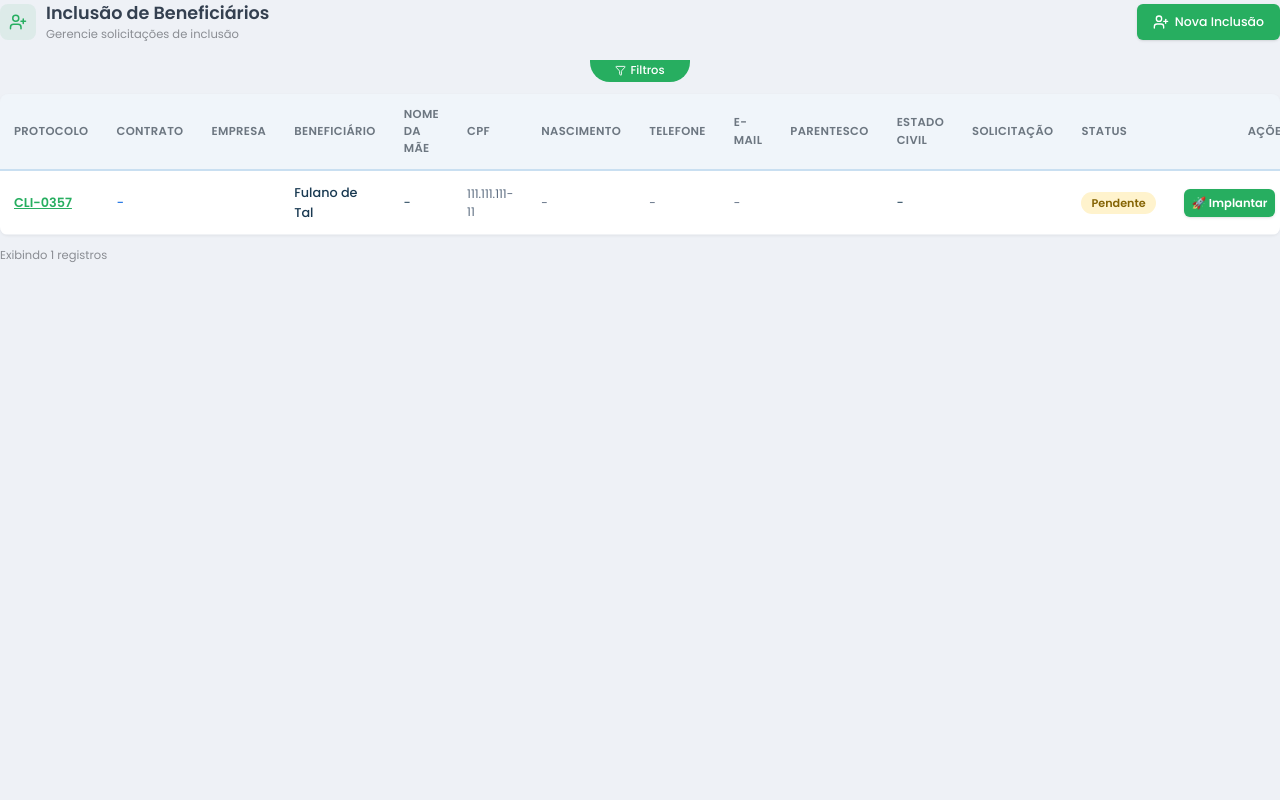
it: TDD: Decouple Movement Notifications from Chat & Render in Bell Icon › RED/GREEN: Inclusao page details modal should render attachments for the protocol
Click the button "CLI-0357".
click(43, 203)  # box [14,193,72,212]
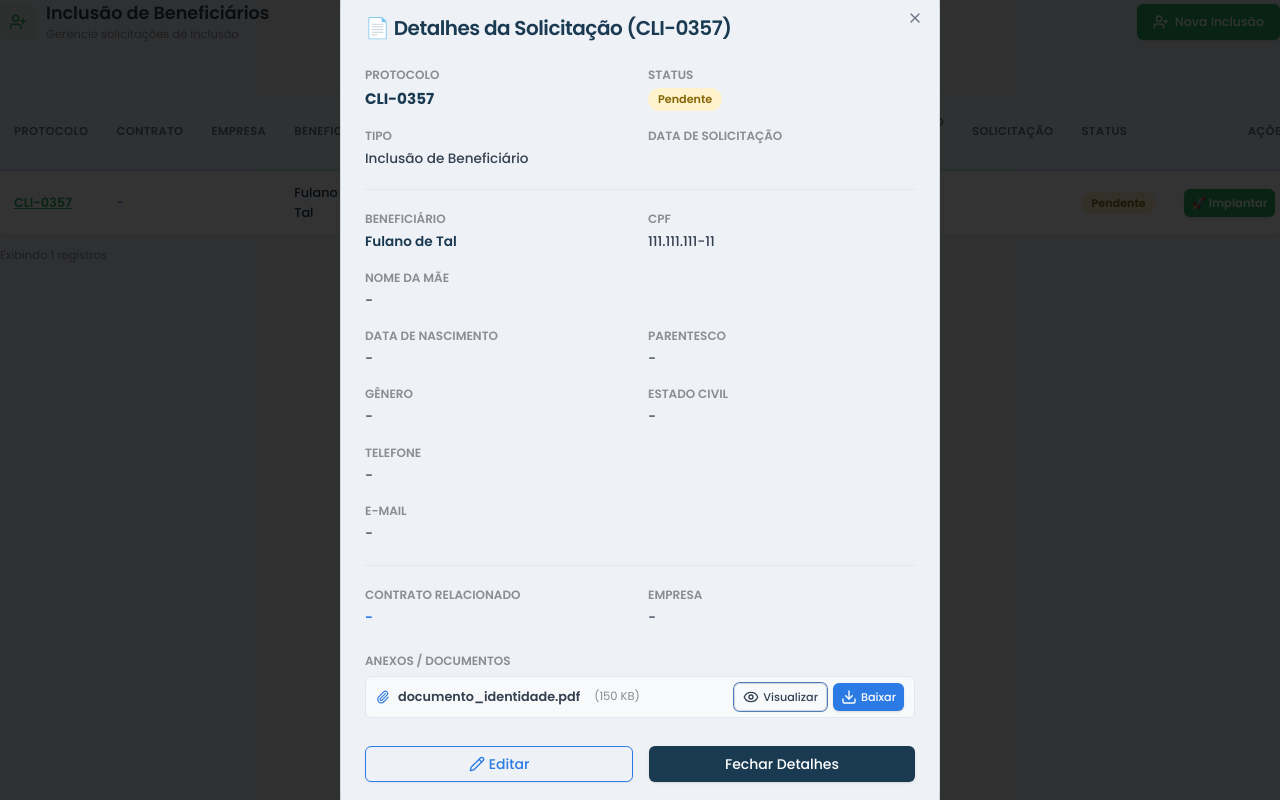
Now the text "documento_identidade.pdf" is shown, box [398,687,580,707]
